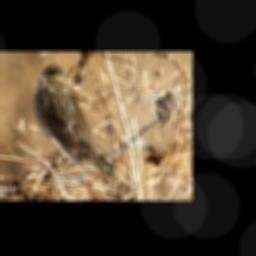Sparrow: (31, 63, 115, 187)
